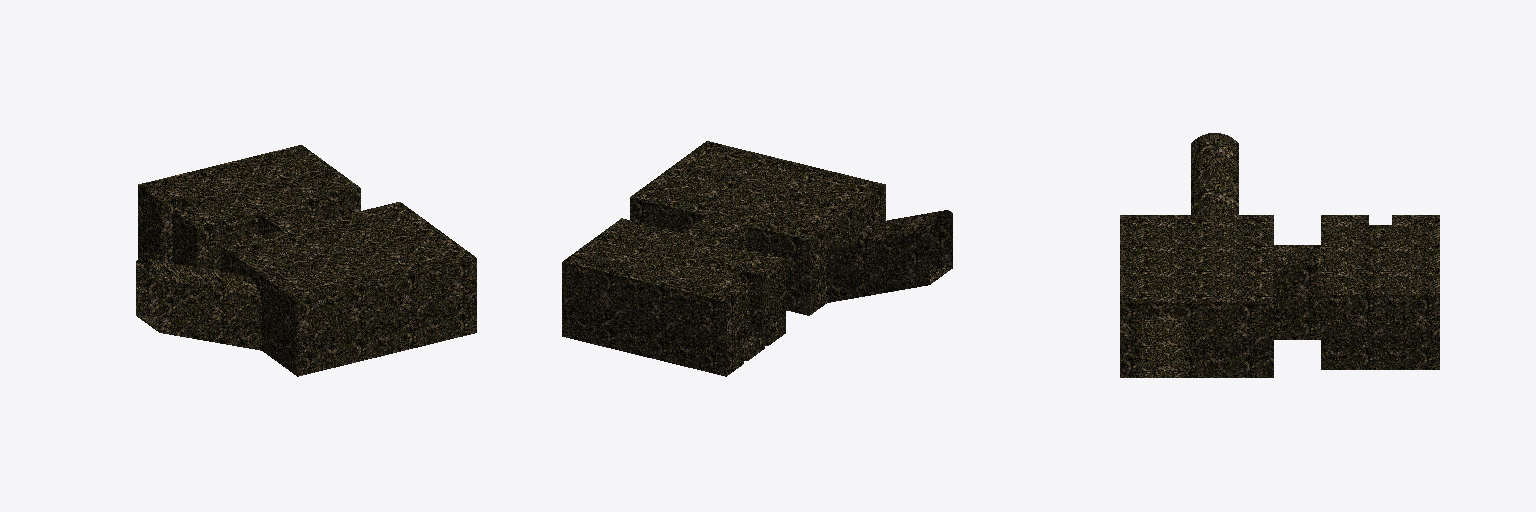
3 views of the same model, side by side, from view 1: azimuth 30°, elevation 25°; view 2: azimuth 150°, elevation 25°; view 3: azimuth 270°, elevation 25° (orthographic).
Visible parts, largest first — view 1: mesh0; view 2: mesh0; view 3: mesh0.
Boxes of the visible parts, x1=… form: mesh0: x1=136, y1=145, x2=476, y2=376; mesh0: x1=562, y1=141, x2=952, y2=376; mesh0: x1=1120, y1=133, x2=1439, y2=377.
Size of the model in its own units: 13.75 by 5.07 by 13.5.
Materials: 3 (3 with a texture image).